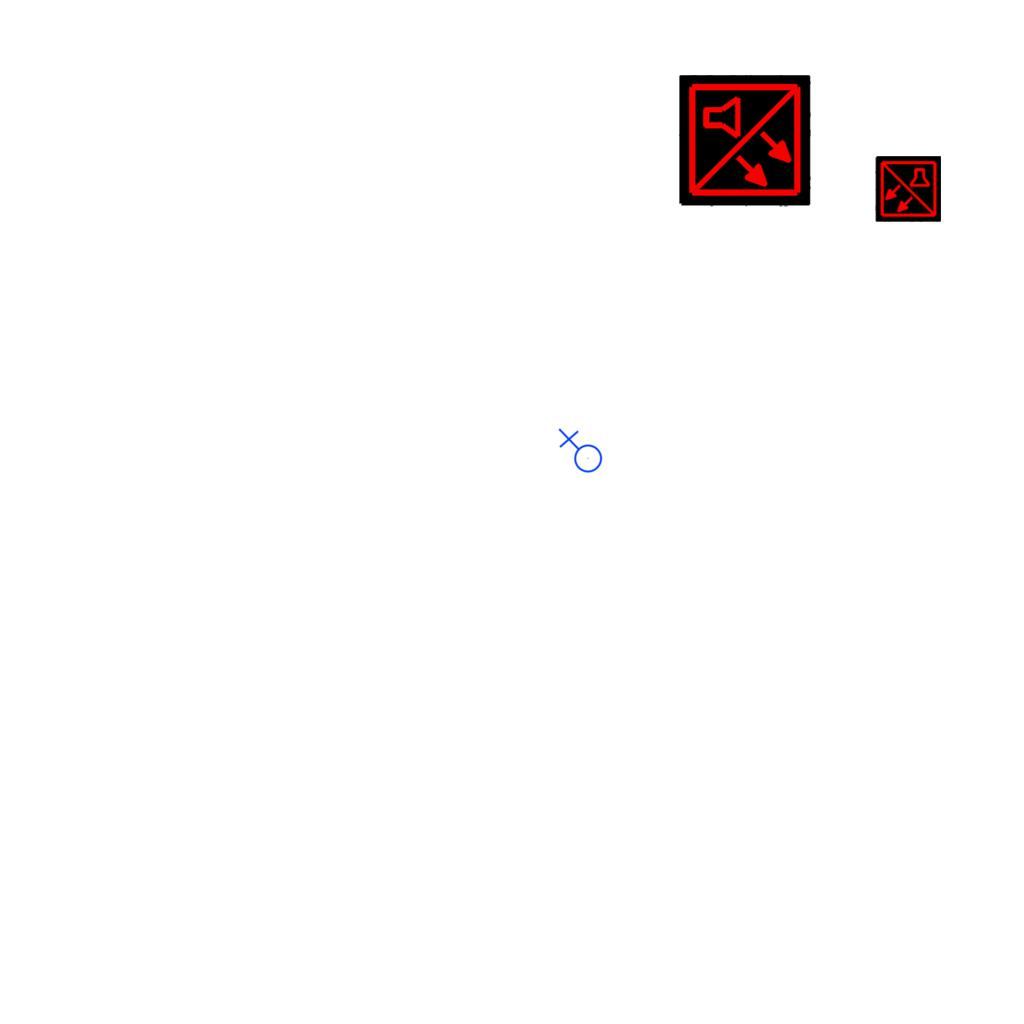Elektroanschluss_allgemein_230V_Geraeteanschlussdose_230V: (556, 428, 603, 477)
OKW_Multisensormelder_(Kombination_optischer_Rauch-Kahlenmonoxid_Waerme-Melder): (679, 75, 811, 207), (875, 156, 941, 222)
